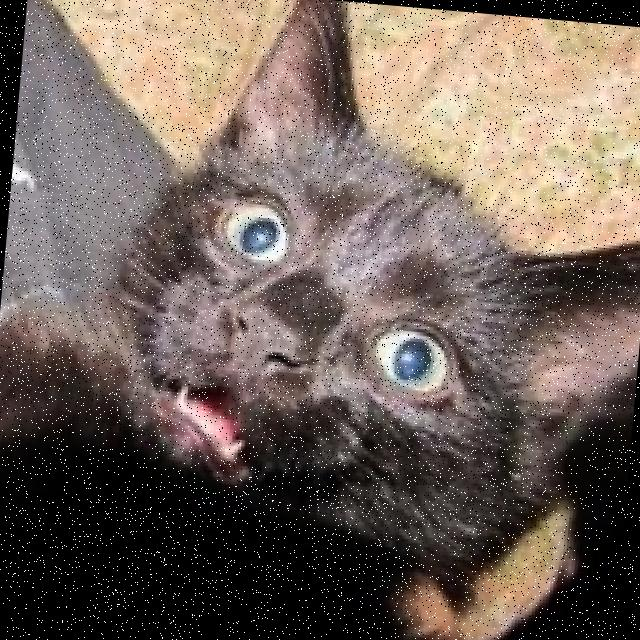Surprised: (136, 150, 519, 533)
